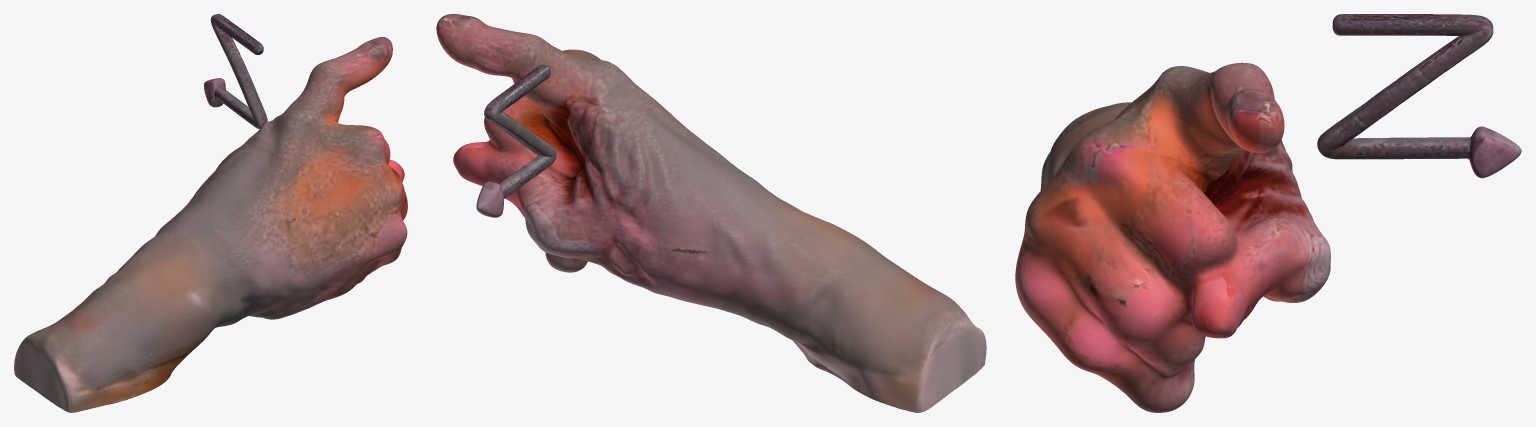
Rendered from letter_Z.glb.
The picture shows the model from 3 angles, left to right: view 1: azimuth 30°, elevation 25°; view 2: azimuth 150°, elevation 25°; view 3: azimuth 270°, elevation 25°; orthographic projection. The views are drawn at different scales.
Visible parts, largest first — view 1: tripo_node_f5fda0b2-c813-4d3f-8d15-fdcb7f76324b; view 2: tripo_node_f5fda0b2-c813-4d3f-8d15-fdcb7f76324b; view 3: tripo_node_f5fda0b2-c813-4d3f-8d15-fdcb7f76324b.
Boxes of the visible parts, <box> form: tripo_node_f5fda0b2-c813-4d3f-8d15-fdcb7f76324b: <box>14,14,407,412</box>; tripo_node_f5fda0b2-c813-4d3f-8d15-fdcb7f76324b: <box>436,14,986,412</box>; tripo_node_f5fda0b2-c813-4d3f-8d15-fdcb7f76324b: <box>1015,14,1521,412</box>.
Bounding box in the file's own units: 1 × 0.5928 × 0.6605.
Materials: 1 (1 with a texture image).
